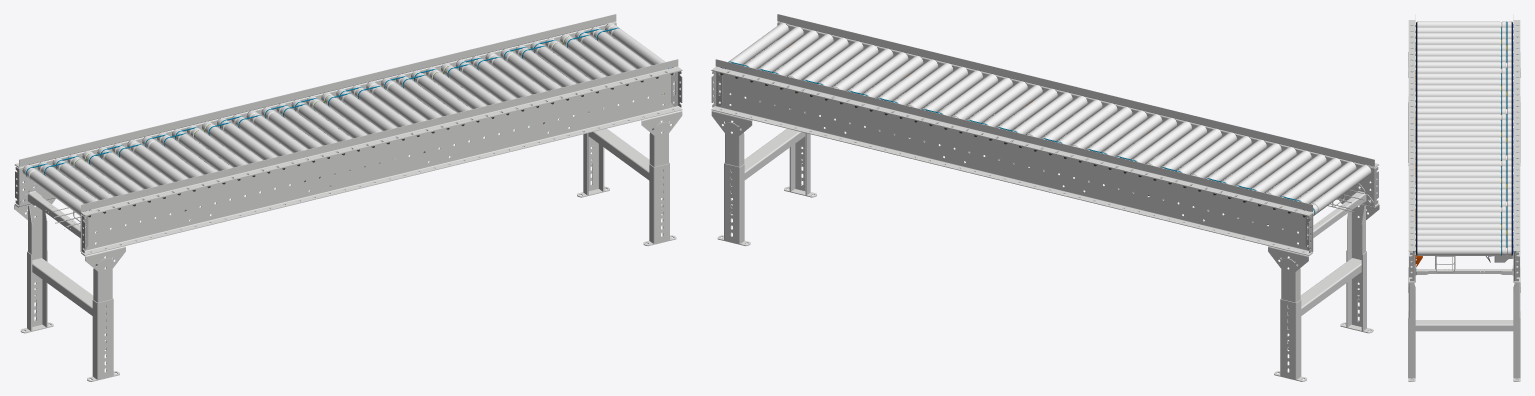
File: zp2026-acumulacion.glb
The picture shows the model from 3 angles, left to right: view 1: azimuth 30°, elevation 25°; view 2: azimuth 150°, elevation 25°; view 3: azimuth 270°, elevation 25°; orthographic projection. The views are drawn at different scales.
Visible parts, largest first — view 1: LT_G:2, GUARDA_MIR:1, GUARDA:1, =>[0:1:1:48] (×4), BR_3002:1 (×2), LT_G:1, B_002A:1 (×2), B_005A:1 (×2), pos12:1, TR_S:1, pos12:9, pos12:13 (+37 smaller); view 2: LT_G:1, GUARDA:1, GUARDA_MIR:1, =>[0:1:1:48] (×4), BR_3002:2 (×2), LT_G:2, B_002A:1 (×2), B_005A:2 (×2), pos12:1, TR_S:1, pos12:9, pos12:20 (+37 smaller); view 3: GUARDA:1, GUARDA_MIR:1, B_002A:1, pos12:40, pos12:1, pos12:10, pos12:19, pos12:28, pos12:37, pos12:5, pos12:9, pos12:14 (+41 smaller).
Part boxes in pixels (x1=…): LT_G:2: x1=80, y1=70, x2=682, y2=255; GUARDA_MIR:1: x1=81, y1=59, x2=681, y2=215; GUARDA:1: x1=15, y1=14, x2=616, y2=167; =>[0:1:1:48] (×4): x1=28, y1=68, x2=668, y2=370; BR_3002:1 (×2): x1=92, y1=162, x2=669, y2=379; LT_G:1: x1=15, y1=22, x2=616, y2=206; B_002A:1 (×2): x1=32, y1=128, x2=649, y2=315; B_005A:1 (×2): x1=81, y1=110, x2=682, y2=272; pos12:1: x1=22, y1=165, x2=90, y2=217; TR_S:1: x1=20, y1=183, x2=96, y2=246; pos12:9: x1=142, y1=136, x2=210, y2=187; pos12:13: x1=202, y1=121, x2=270, y2=173; LT_G:1: x1=711, y1=70, x2=1313, y2=255; GUARDA:1: x1=712, y1=59, x2=1312, y2=215; GUARDA_MIR:1: x1=777, y1=14, x2=1378, y2=167; =>[0:1:1:48] (×4): x1=725, y1=68, x2=1365, y2=371; BR_3002:2 (×2): x1=724, y1=162, x2=1301, y2=379; LT_G:2: x1=777, y1=22, x2=1378, y2=206; B_002A:1 (×2): x1=744, y1=128, x2=1361, y2=315; B_005A:2 (×2): x1=711, y1=110, x2=1312, y2=272; pos12:1: x1=1303, y1=165, x2=1371, y2=217; TR_S:1: x1=1297, y1=183, x2=1373, y2=246; pos12:9: x1=1183, y1=136, x2=1251, y2=187; pos12:20: x1=1019, y1=96, x2=1087, y2=147; GUARDA:1: x1=1513, y1=14, x2=1520, y2=251; GUARDA_MIR:1: x1=1408, y1=14, x2=1415, y2=251; B_002A:1: x1=1415, y1=320, x2=1513, y2=331; pos12:40: x1=1413, y1=246, x2=1515, y2=255; pos12:1: x1=1415, y1=21, x2=1513, y2=28; pos12:10: x1=1415, y1=73, x2=1513, y2=80; pos12:19: x1=1415, y1=125, x2=1513, y2=132; pos12:28: x1=1415, y1=177, x2=1513, y2=184; pos12:37: x1=1415, y1=229, x2=1513, y2=236; pos12:5: x1=1415, y1=44, x2=1513, y2=51; pos12:9: x1=1415, y1=67, x2=1513, y2=74; pos12:14: x1=1415, y1=96, x2=1513, y2=103.
Size of the model in its own units: 3 by 0.8381 by 0.6154.
